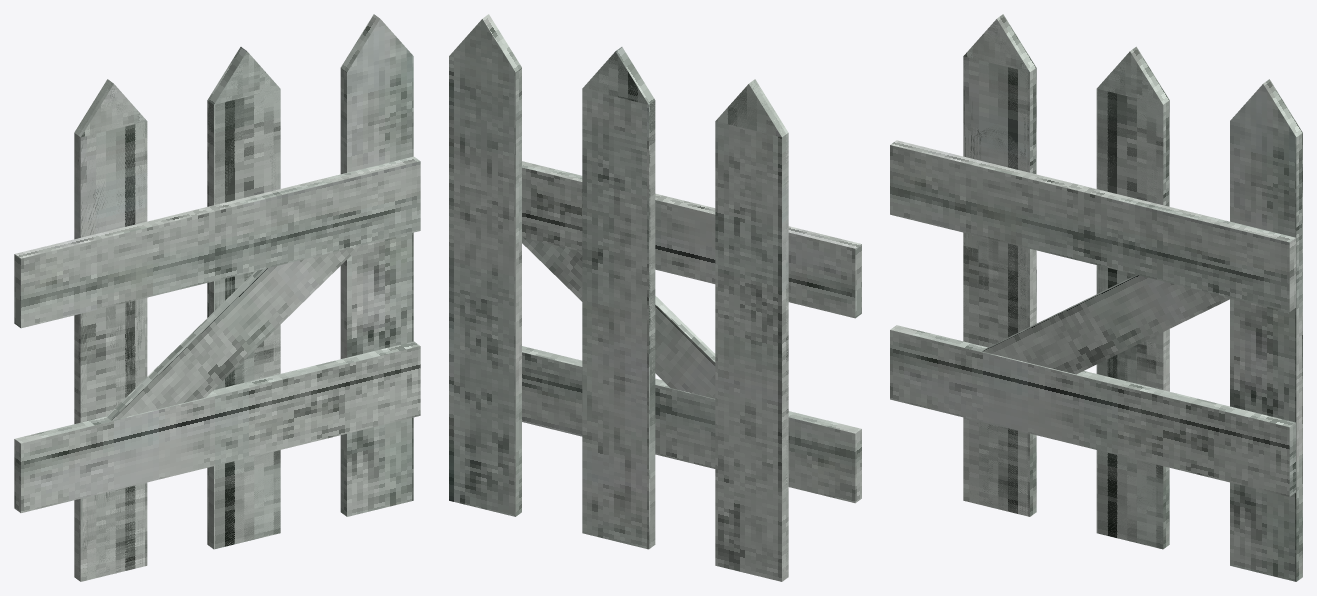
File: lf_picket_gate.glb
3 renders of one model, left to right at view 1: azimuth 30°, elevation 25°; view 2: azimuth 150°, elevation 25°; view 3: azimuth 330°, elevation 25°, orthographic.
Visible parts, largest first — view 1: white_picket_fence_gate; view 2: white_picket_fence_gate; view 3: white_picket_fence_gate.
Part boxes in pixels (box(x1,y1,x2,y2)): white_picket_fence_gate: box(14, 14, 420, 581); white_picket_fence_gate: box(449, 14, 861, 581); white_picket_fence_gate: box(890, 14, 1302, 581).
Size of the model in its own units: 1.08 by 1.27 by 0.0623.
Materials: 1 (1 with a texture image).
